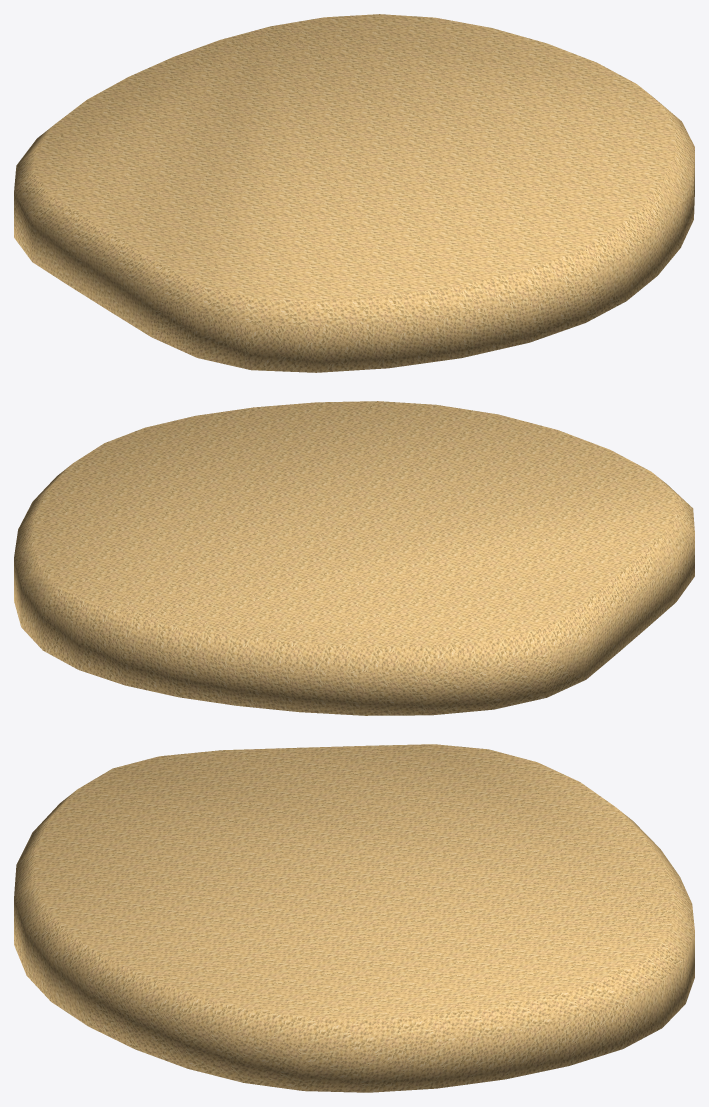
The model's file is island_02.fbx.
3 renders of one model, top to bottom at view 1: azimuth 30°, elevation 25°; view 2: azimuth 150°, elevation 25°; view 3: azimuth 270°, elevation 25°, orthographic. The views are drawn at different scales.
Visible parts, largest first — view 1: Cylinder; view 2: Cylinder; view 3: Cylinder.
Boxes of the visible parts, left/top/right/bottom form: Cylinder: left=14, top=14, right=694, bottom=372; Cylinder: left=14, top=401, right=694, bottom=715; Cylinder: left=14, top=744, right=694, bottom=1092.
Bounding box in the file's own units: 217 × 22.32 × 214.
1 material, 1 textured.
